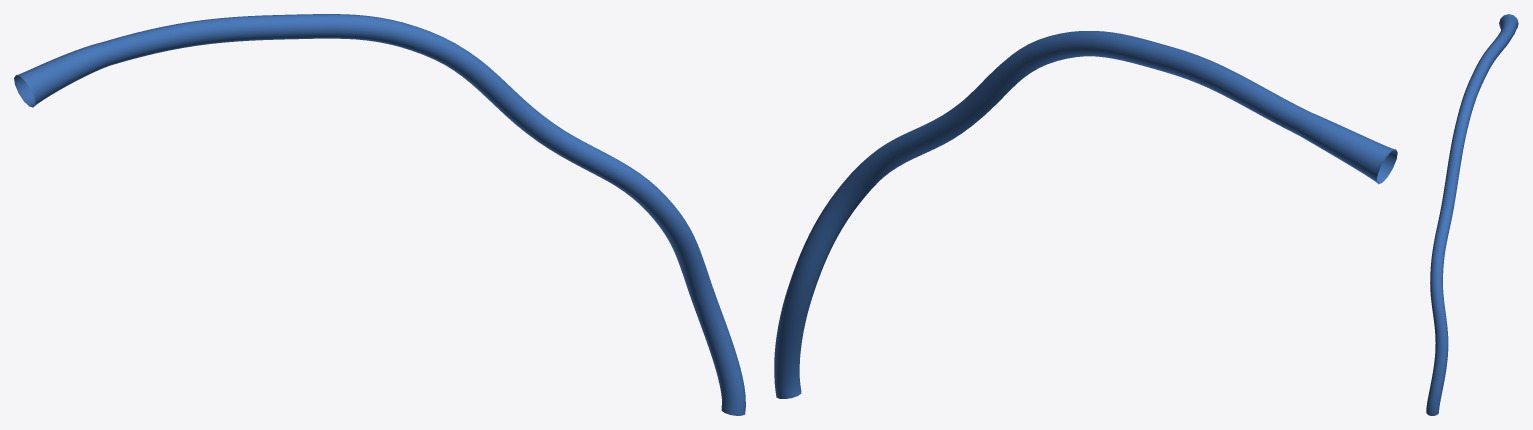
3 views of the same model, side by side, from view 1: azimuth 30°, elevation 25°; view 2: azimuth 150°, elevation 25°; view 3: azimuth 270°, elevation 25° (orthographic). The views are drawn at different scales.
Visible parts, largest first — view 1: 左侧横窦; view 2: 左侧横窦; view 3: 左侧横窦.
Part boxes in pixels (bbox=[...]): 左侧横窦: bbox=[14, 14, 745, 415]; 左侧横窦: bbox=[774, 31, 1397, 398]; 左侧横窦: bbox=[1426, 14, 1518, 415].
Size of the model in its own units: 0.0899 by 0.0612 by 0.0208.
